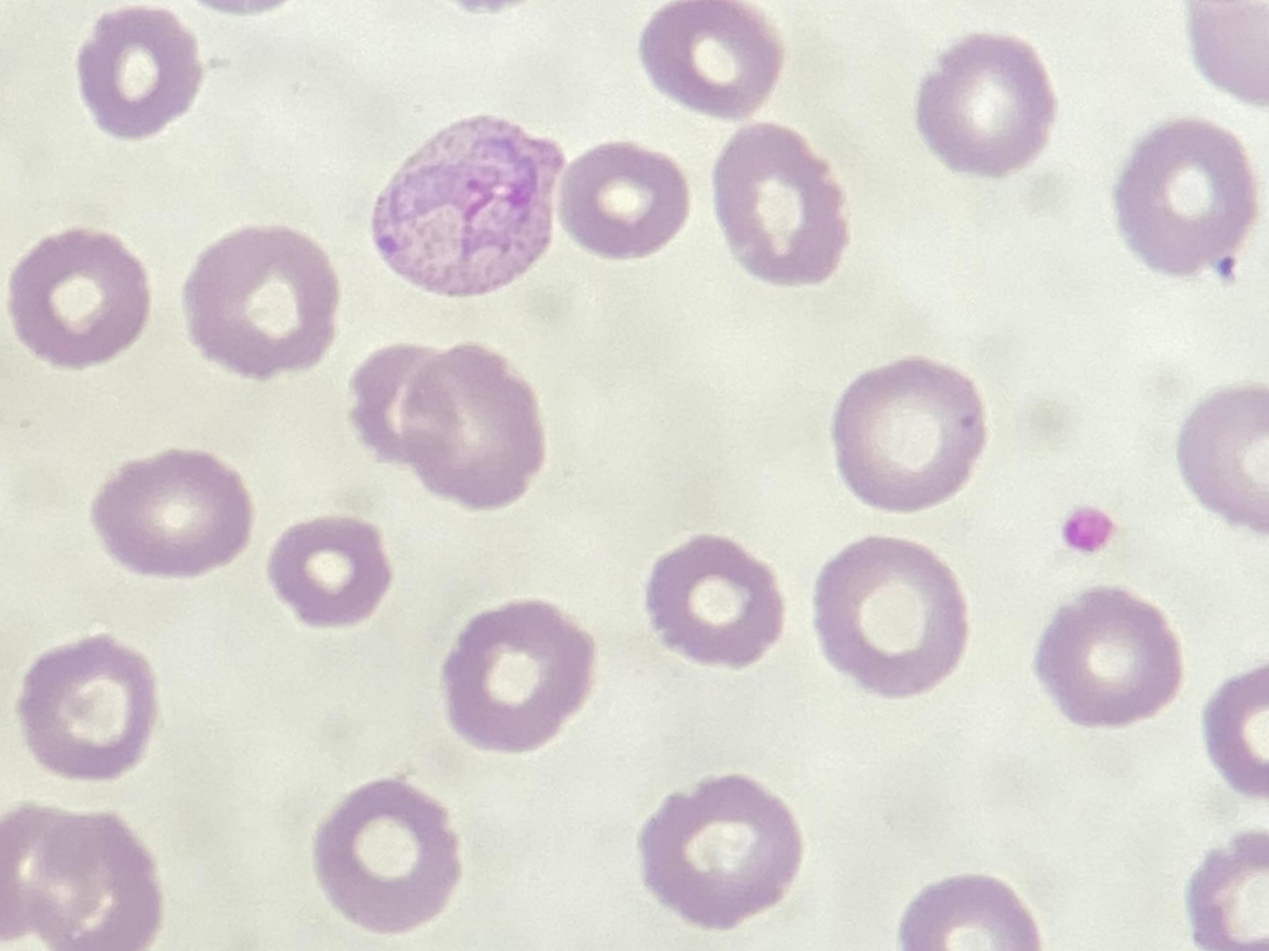Infected: (370, 111, 563, 296)
Uninfected: (628, 776, 799, 931), (811, 532, 965, 696), (835, 358, 984, 520), (714, 120, 853, 286), (1029, 578, 1179, 730), (181, 230, 330, 380), (399, 349, 543, 503), (443, 600, 589, 750), (84, 455, 248, 586), (916, 32, 1057, 184), (1115, 120, 1248, 276), (322, 781, 463, 925), (4, 232, 148, 368), (13, 633, 153, 772), (75, 7, 213, 146), (643, 532, 778, 667), (560, 144, 696, 271), (635, 3, 774, 118), (271, 512, 385, 630), (350, 340, 449, 462)
